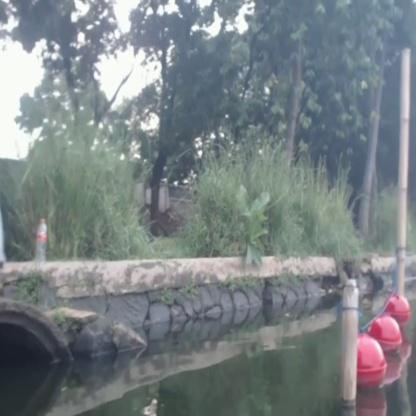red_buoy: (356, 337, 384, 388), (376, 316, 402, 362), (390, 292, 410, 327)
